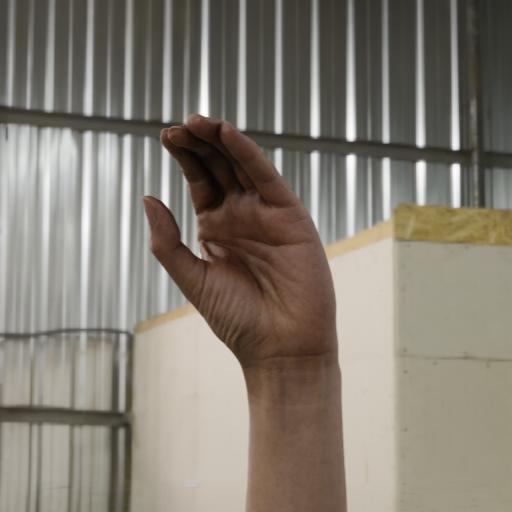C: (124, 99, 364, 377)
